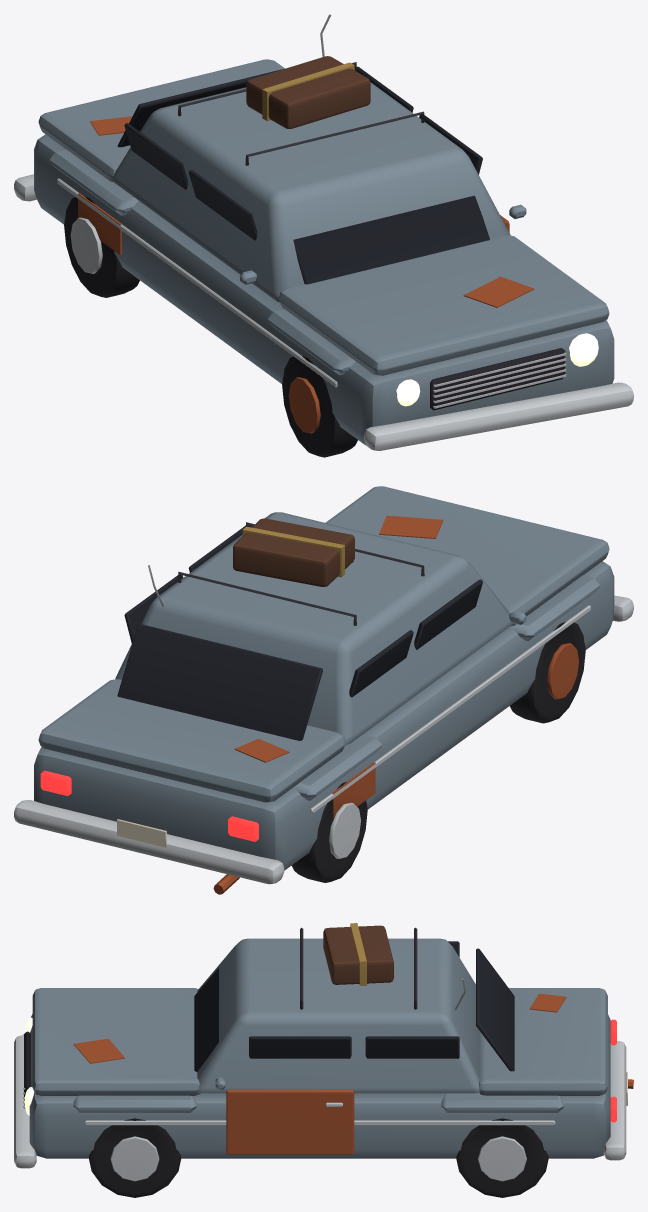
Rendered from veh_sedan.glb.
3 views of the same model, one above another, from view 1: azimuth 30°, elevation 25°; view 2: azimuth 150°, elevation 25°; view 3: azimuth 270°, elevation 25° (orthographic). The views are drawn at different scales.
Parts seen in each view (by area): view 1: veh_sedan, wheel_FR, wheel_RR, glow; view 2: veh_sedan, wheel_FR, wheel_RR, glow; view 3: veh_sedan, door, wheel_RL, wheel_FL, glow.
Part boxes in pixels (x1,y1,x2,y2): veh_sedan: [14, 14, 633, 450]; wheel_FR: [282, 356, 357, 457]; wheel_RR: [64, 196, 139, 297]; glow: [396, 333, 598, 406]; veh_sedan: [14, 486, 633, 894]; wheel_FR: [510, 621, 585, 723]; wheel_RR: [291, 781, 367, 882]; glow: [40, 770, 258, 841]; veh_sedan: [14, 923, 633, 1168]; door: [226, 1089, 354, 1154]; wheel_RL: [456, 1118, 548, 1197]; wheel_FL: [89, 1118, 180, 1197]; glow: [24, 1017, 616, 1122].
Bounding box in the file's own units: 1.94 × 1.62 × 4.35.
